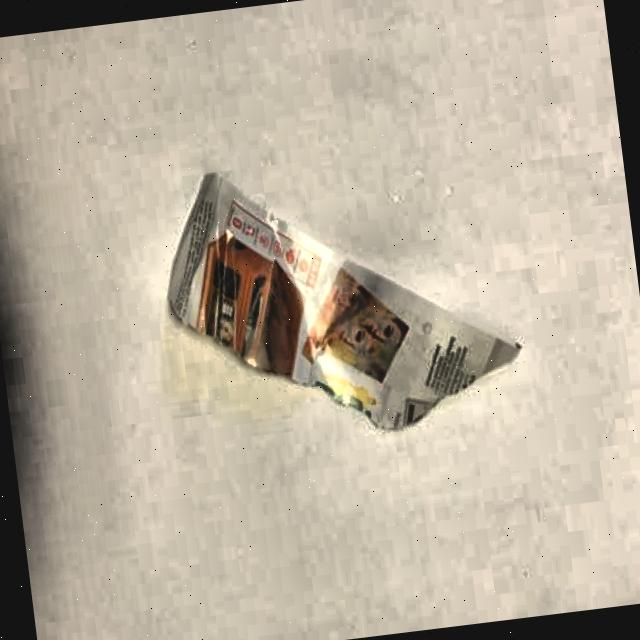paper: (146, 134, 527, 450)
